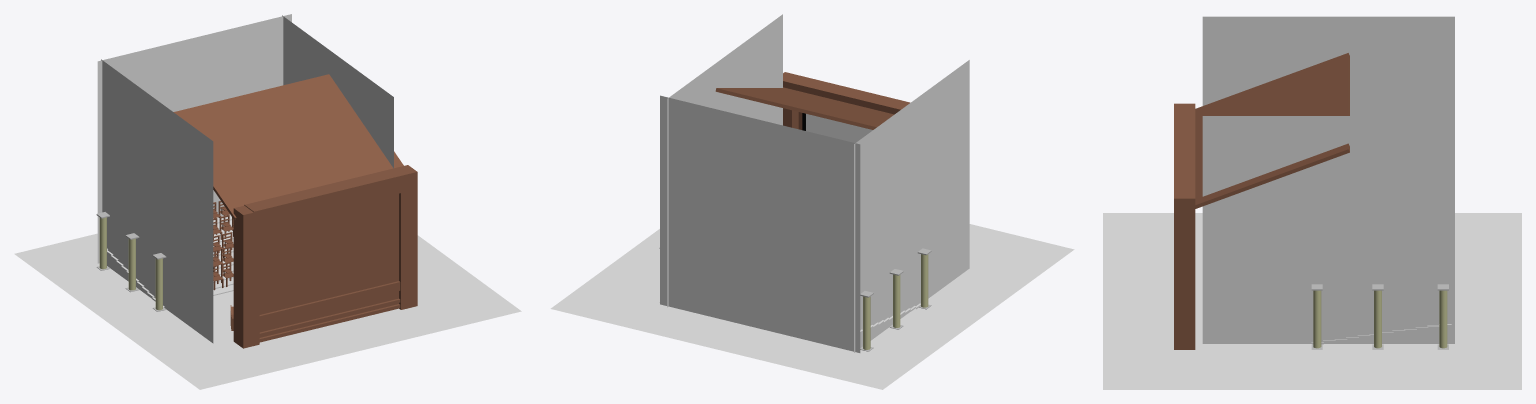
Rendered from classroom.fbx.
The picture shows the model from 3 angles, left to right: view 1: azimuth 30°, elevation 25°; view 2: azimuth 150°, elevation 25°; view 3: azimuth 270°, elevation 25°; orthographic projection. The views are drawn at different scales.
Visible parts, largest first — view 1: Plane, Plane.004, Cube.009, Cube.010, Plane.003, Cube, Plane.005, Cube.004, Cube.011, Stairs, Cube.013, Cube.012; view 2: Plane.003, Plane, Plane.004, Plane.005, Cube.009, Cube, Plane.002; view 3: Plane.005, Plane, Plane.004, Cube.009, Cube, Column.004, Column.006, Column.005.
Boxes of the visible parts, x1,y1,x2,y2 form: Plane: [14, 233, 521, 389]; Plane.004: [101, 59, 213, 343]; Cube.009: [173, 74, 403, 220]; Cube.010: [259, 193, 398, 342]; Plane.003: [97, 14, 291, 263]; Cube: [244, 165, 417, 309]; Plane.005: [282, 15, 393, 168]; Cube.004: [233, 205, 259, 348]; Cube.011: [259, 281, 400, 324]; Stairs: [213, 214, 233, 295]; Cube.013: [259, 304, 400, 341]; Cube.012: [259, 298, 400, 336]; Plane.003: [660, 95, 860, 352]; Plane: [550, 224, 1074, 389]; Plane.004: [854, 60, 969, 352]; Plane.005: [667, 14, 782, 307]; Cube.009: [715, 87, 894, 129]; Cube: [783, 72, 910, 129]; Plane.002: [806, 114, 872, 142]; Plane.005: [1202, 116, 1454, 343]; Plane: [1103, 213, 1521, 389]; Plane.004: [1202, 16, 1454, 115]; Cube.009: [1195, 53, 1349, 208]; Cube: [1174, 108, 1195, 349]; Column.004: [1313, 290, 1321, 348]; Column.006: [1439, 290, 1447, 348]; Column.005: [1374, 290, 1381, 348].
Size of the model in its own units: 3915 by 2363 by 3915.
